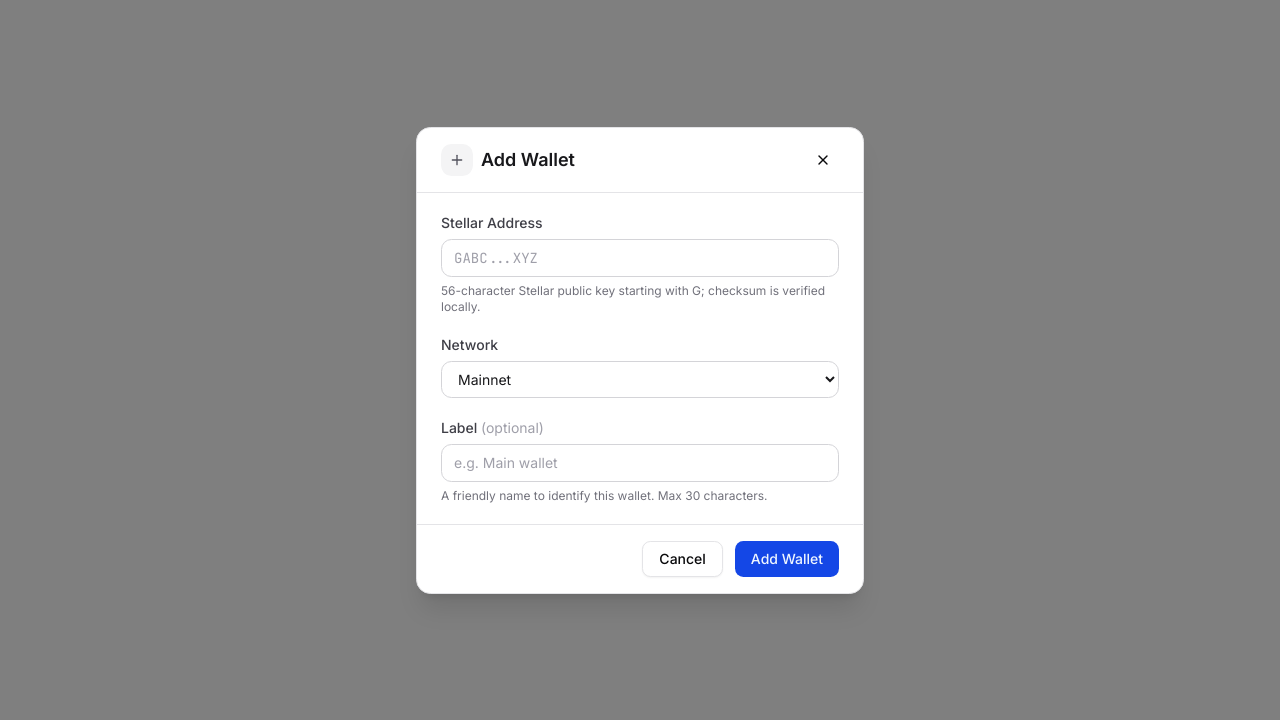
it: AddWalletModal address validation › shows an error when submitting an empty address
What coordinates should you click on to do the following:
click the button "Add Wallet"
I would click on:
 (787, 558)
Its box is [735,540,839,576].
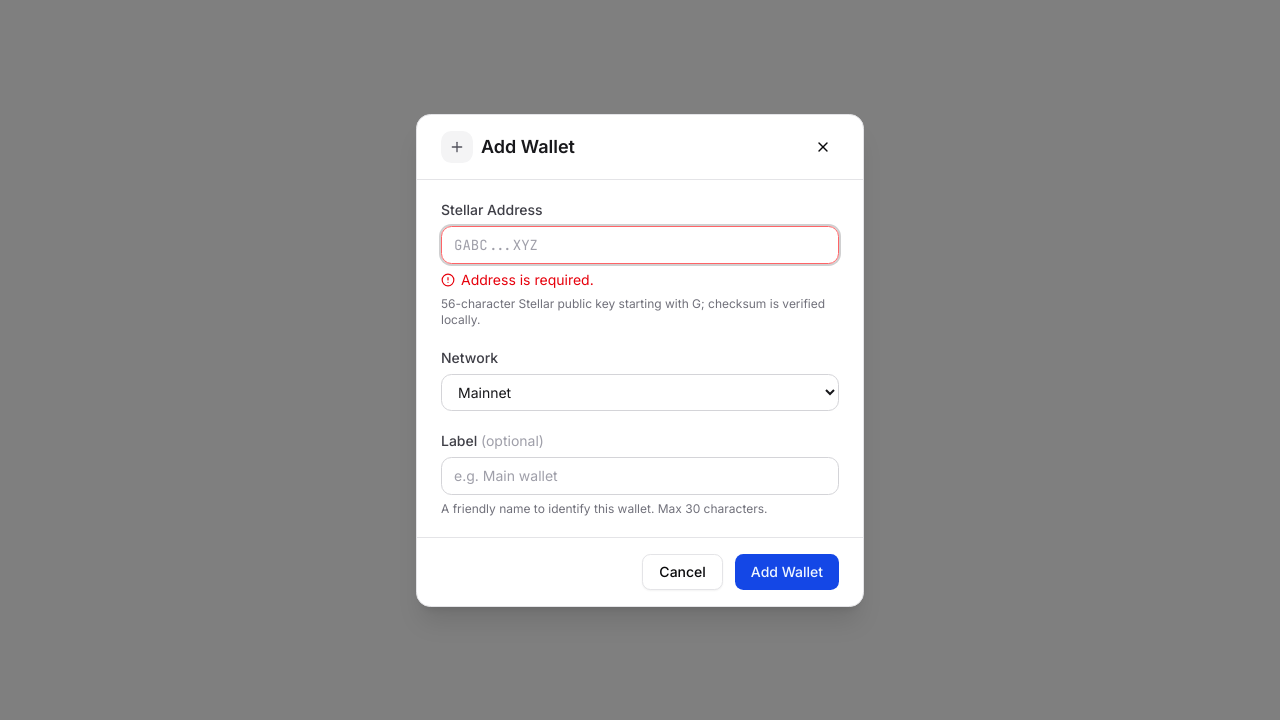
Check: the message "Address is required." is shown, box [441,270,594,288]
Check: the message shows "required", box [461,270,594,288]
